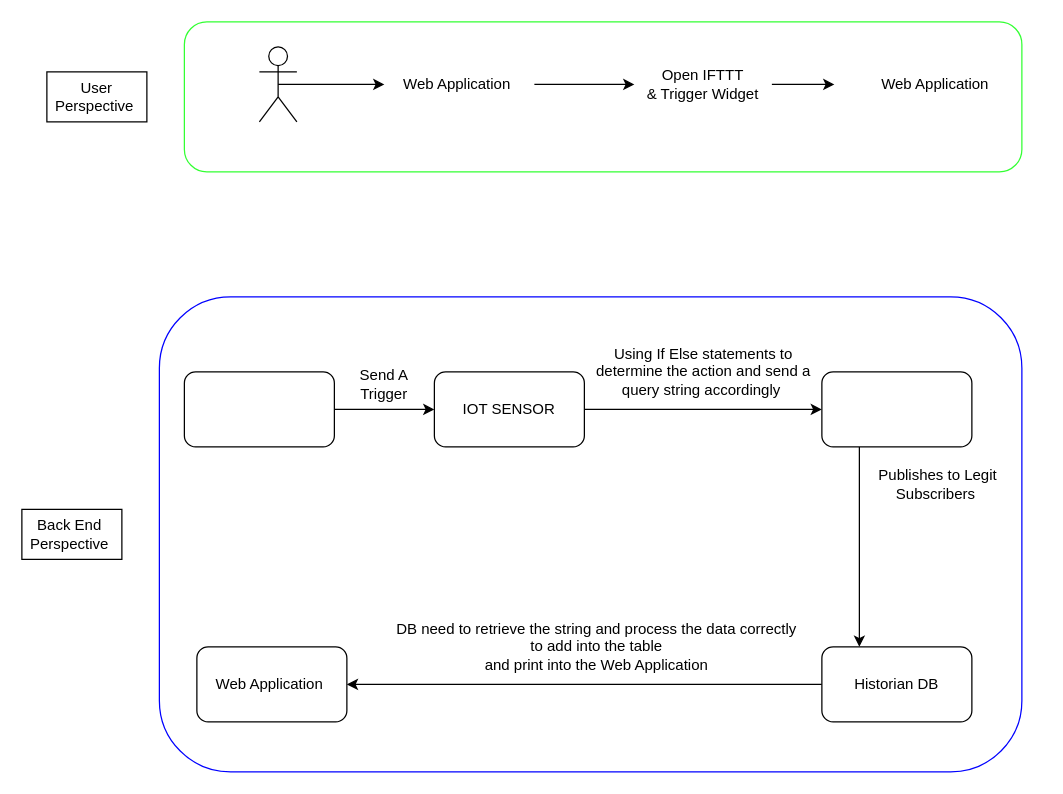
This 1063x794 diagram has some shape labels left out. The box of each missing label's shape, as (x1, y1, x2, y2) in pixels:
Actor: (258, 46, 297, 122)
MQTT: (821, 371, 972, 447)
Widget Trigger: (183, 371, 334, 447)
